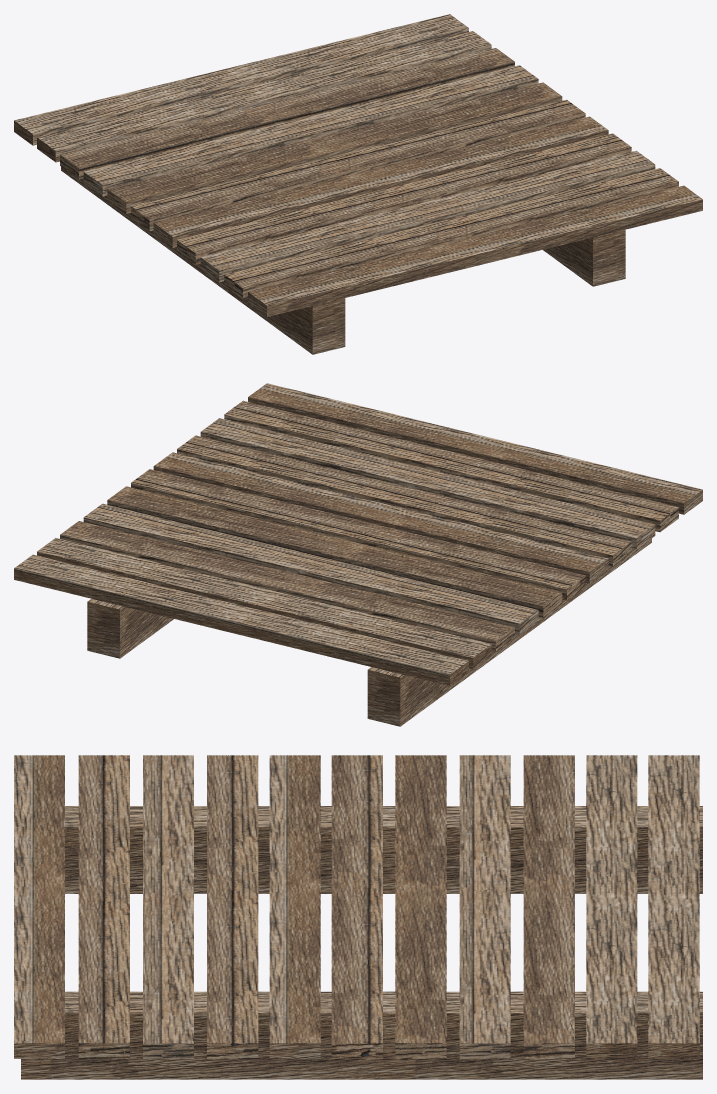
File: Piso.fbx
3 views of the same model, one above another, from view 1: azimuth 30°, elevation 25°; view 2: azimuth 150°, elevation 25°; view 3: azimuth 270°, elevation 25° (orthographic). The views are drawn at different scales.
Visible parts, largest first — view 1: Piso; view 2: Piso; view 3: Piso.
Part boxes in pixels (box(x1,y1,x2,y2)): Piso: box(14, 14, 702, 354); Piso: box(14, 383, 702, 726); Piso: box(14, 755, 702, 1079).
Size of the model in its own units: 400 by 55.4 by 404.
Materials: 13 (13 with a texture image).
